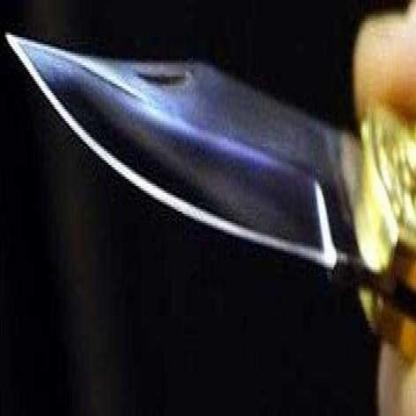Knife: (4, 31, 416, 333)
